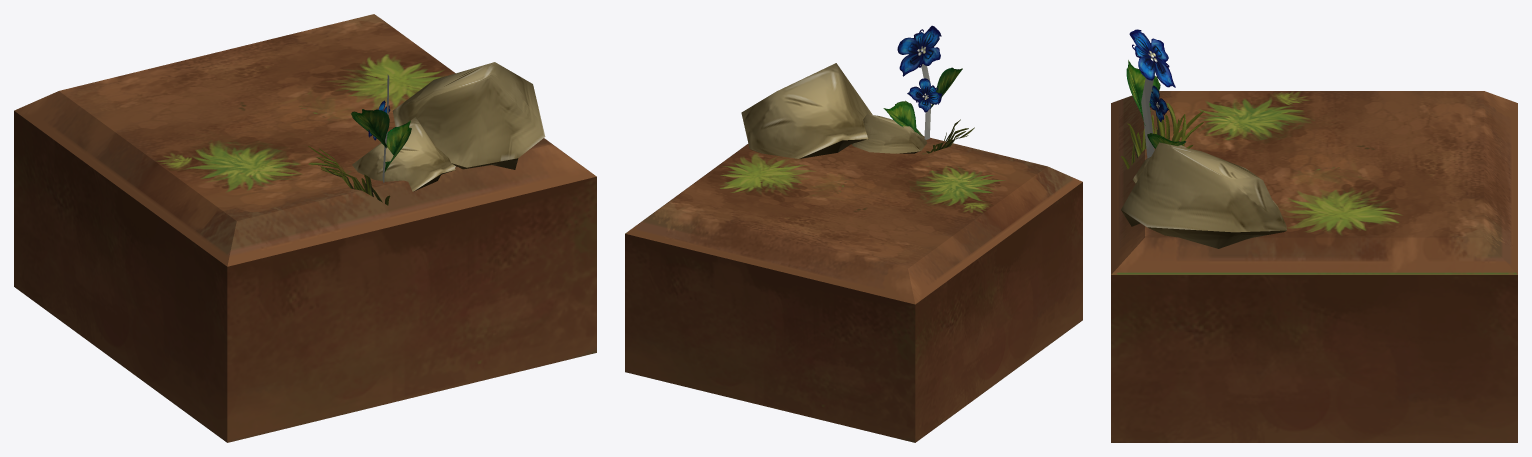
Rendered from tile_final4.FBX.
3 views of the same model, side by side, from view 1: azimuth 30°, elevation 25°; view 2: azimuth 150°, elevation 25°; view 3: azimuth 270°, elevation 25° (orthographic). The views are drawn at different scales.
Visible parts, largest first — view 1: Prefab8; view 2: Prefab8; view 3: Prefab8.
Part boxes in pixels (left/top/right/bottom): Prefab8: left=14, top=14, right=596, bottom=442; Prefab8: left=625, top=25, right=1082, bottom=442; Prefab8: left=1111, top=29, right=1517, bottom=442.
Size of the model in its own units: 25.01 by 21.97 by 24.96.
Materials: 2 (2 with a texture image).
